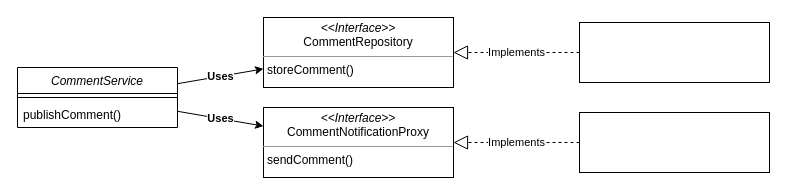
Some shapes in this 787 by 195 pixel diagram are drawn without their labels. Here are the shapes that lost their labels. From the top down, the box of each, then its label:
(578, 22, 770, 82): DatabaseCommentRepository storeComment()
(578, 112, 770, 172): EmailCommentNotificationProxy sendComment()
